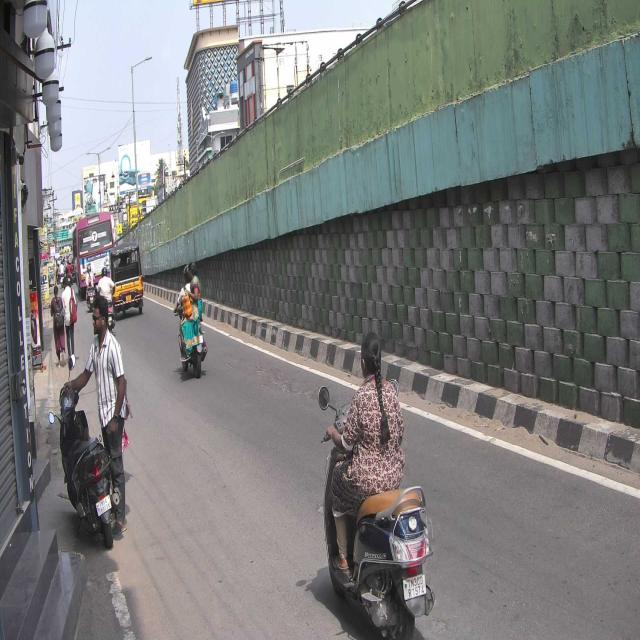single_rider: (318, 327, 438, 640)
